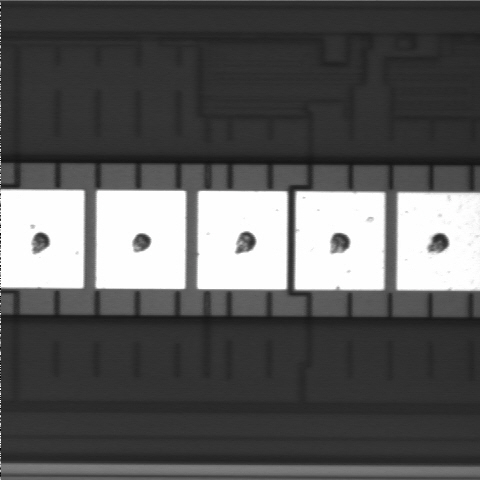pad: (96, 190, 186, 289), (295, 191, 385, 290), (197, 191, 287, 289)
